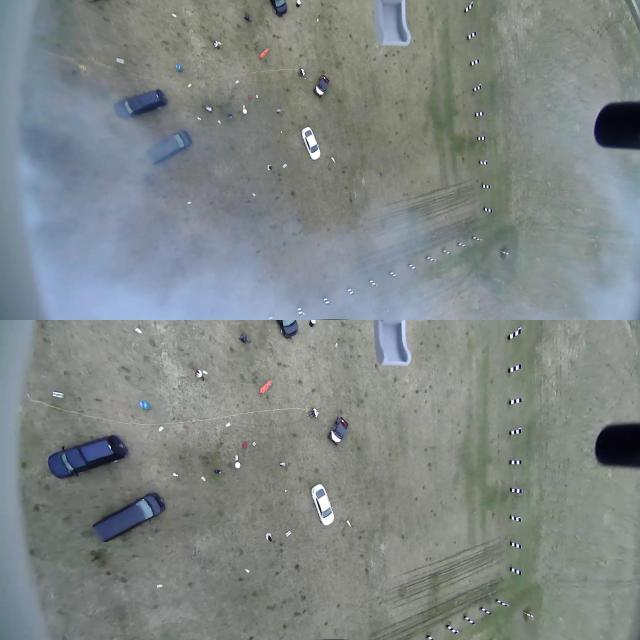car: (88, 491, 165, 543), (45, 435, 121, 477), (144, 127, 192, 164), (111, 86, 166, 116), (309, 482, 334, 525), (300, 125, 322, 160), (326, 415, 348, 444), (270, 319, 298, 336)
